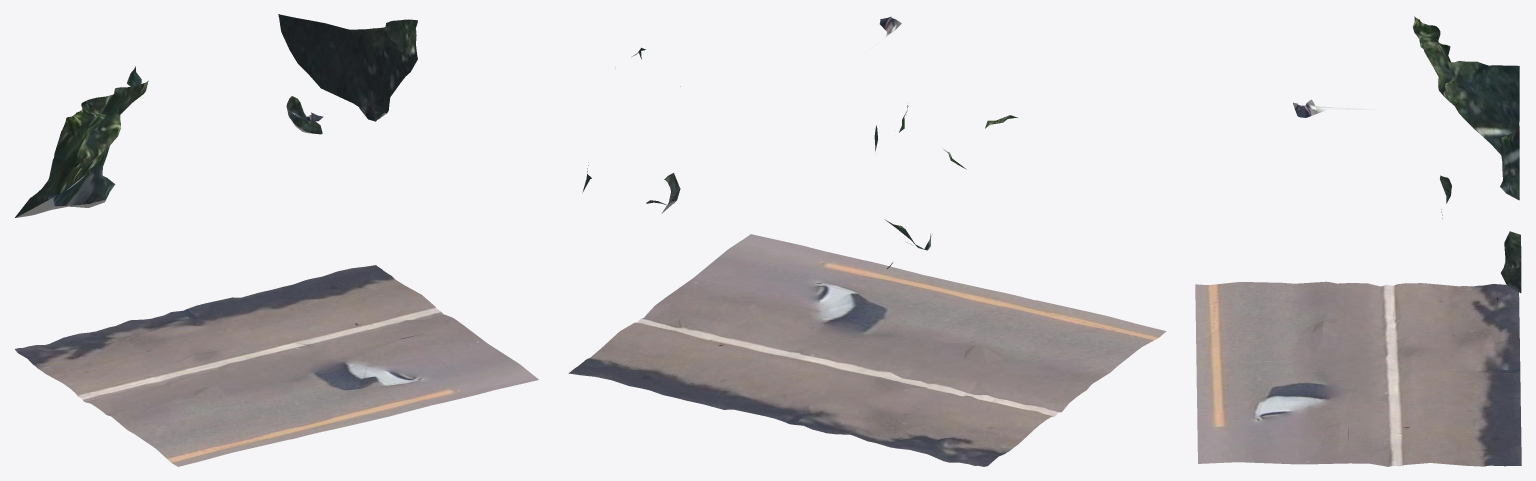
Rendered from Tile_+006_+007_L22_0002300.glb.
The picture shows the model from 3 angles, left to right: view 1: azimuth 30°, elevation 25°; view 2: azimuth 150°, elevation 25°; view 3: azimuth 270°, elevation 25°; orthographic projection. The views are drawn at different scales.
Parts seen in each view (by area): view 1: rtc; view 2: rtc; view 3: rtc.
Boxes of the visible parts, <box> form: rtc: <box>15,14,538,466</box>; rtc: <box>568,16,1166,466</box>; rtc: <box>1195,16,1521,466</box>.
Bounding box in the file's own units: 8.86 × 6.44 × 6.87.
1 material, 1 textured.
